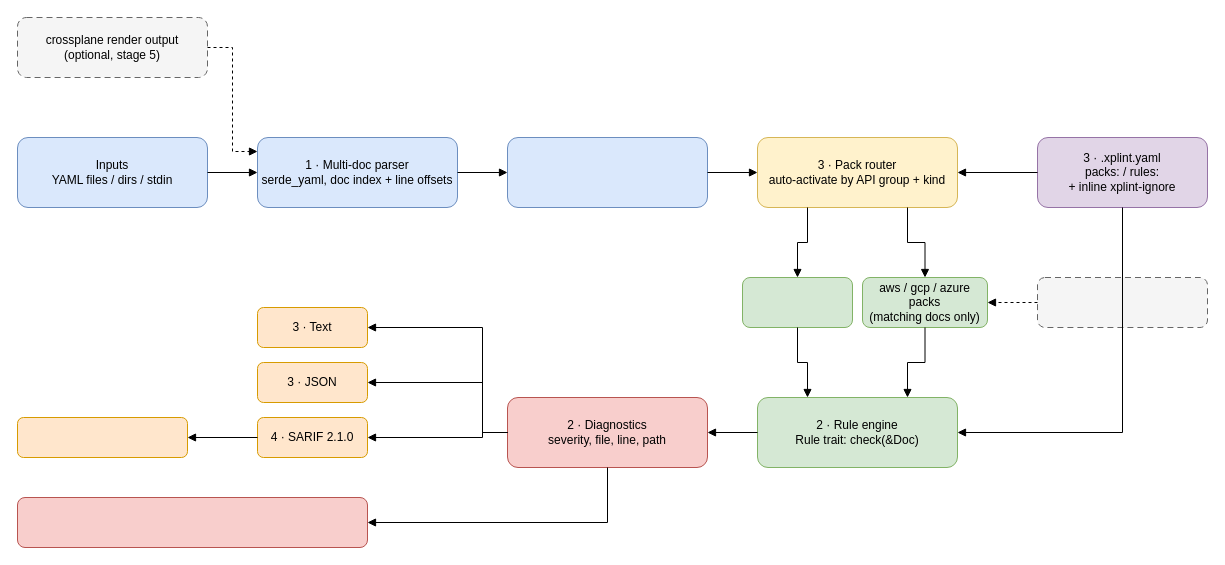
Some shapes in this 1225 by 565 pixel diagram are drawn without their labels. The shapes that lost their labels are listed below. From the top down, each one's box as (x1, y1, x2, y2) in pixels, then its label:
(506, 136, 708, 208): 1 · Typed models XRD, Composition, Function, generic
(742, 276, 852, 328): Core rules (on by default)
(1036, 276, 1208, 328): CRD-aware checks (optional, stage 5)
(16, 416, 188, 458): GitHub code scanning
(16, 496, 368, 548): 3 · Exit codes 0 clean · 1 error findings · 2 usage/IO
